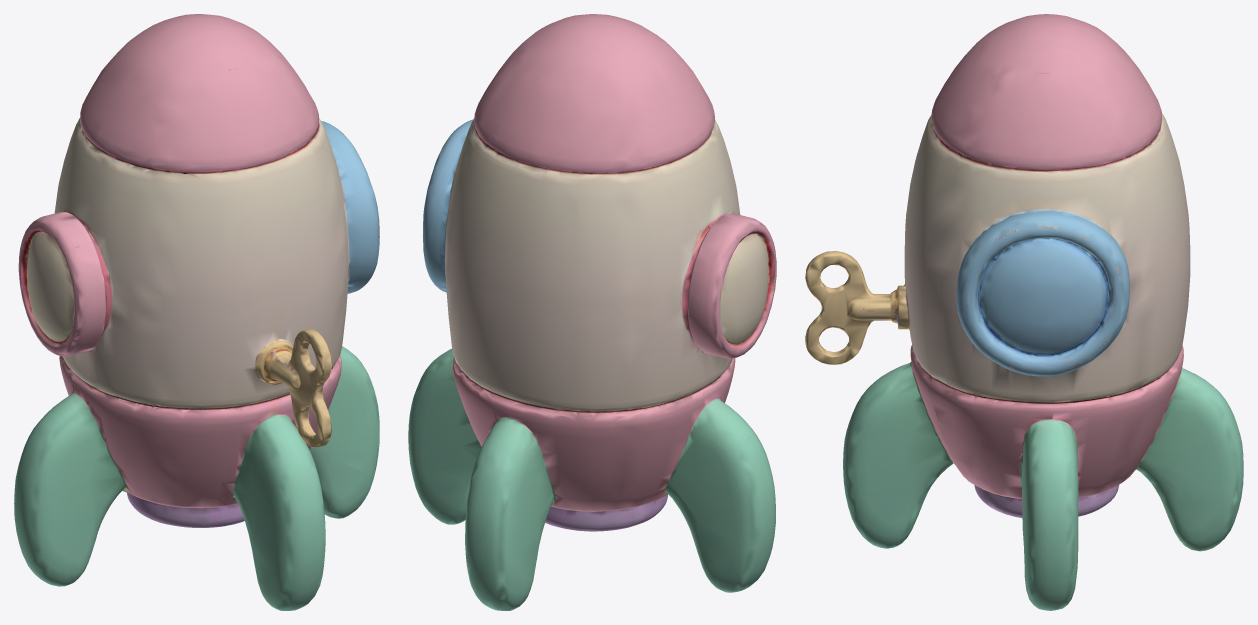
3 renders of one model, left to right at view 1: azimuth 30°, elevation 25°; view 2: azimuth 150°, elevation 25°; view 3: azimuth 270°, elevation 25°, orthographic. The views are drawn at different scales.
Parts seen in each view (by area): view 1: repaired; view 2: repaired; view 3: repaired.
Boxes of the visible parts, <box> form: repaired: <box>14,14,379,610</box>; repaired: <box>408,14,776,610</box>; repaired: <box>805,14,1243,610</box>.
Bounding box in the file's own units: 0.7036 × 0.9996 × 0.766.
Materials: 1 (1 with a texture image).
